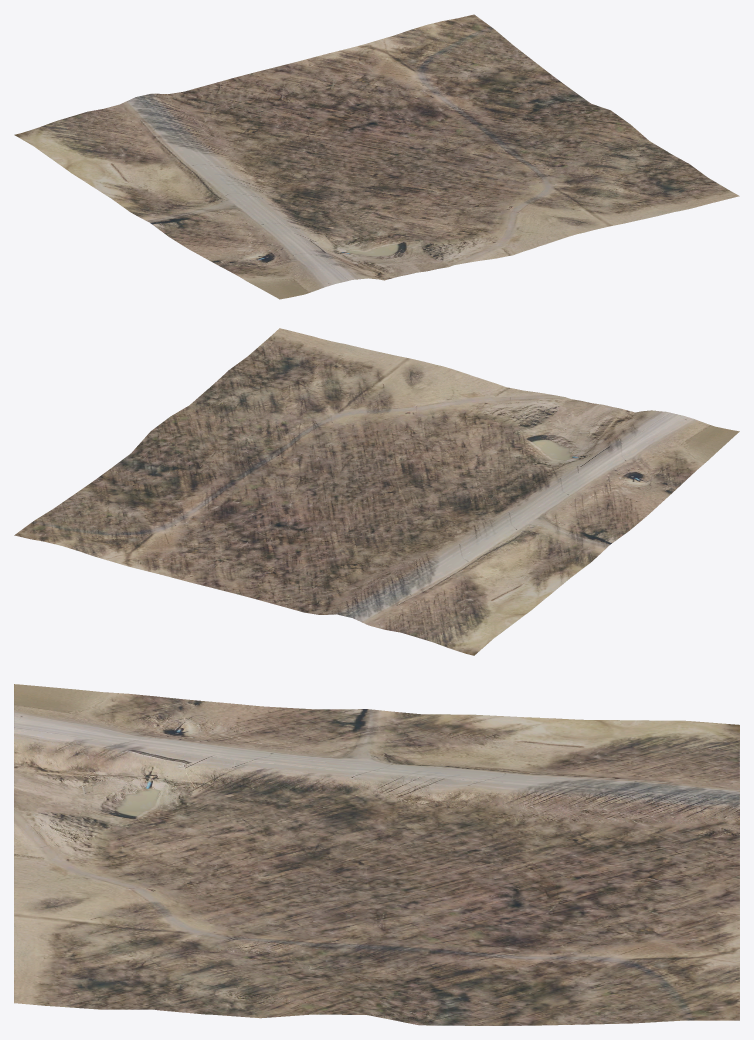
Rendered from CM_Terrain_24491892_6818770.fbx.
The picture shows the model from 3 angles, top to bottom: view 1: azimuth 30°, elevation 25°; view 2: azimuth 150°, elevation 25°; view 3: azimuth 270°, elevation 25°; orthographic projection. The views are drawn at different scales.
Parts seen in each view (by area): view 1: CM_Terrain_24491892_6818770_LOD0; view 2: CM_Terrain_24491892_6818770_LOD0; view 3: CM_Terrain_24491892_6818770_LOD0.
Boxes of the visible parts, left/top/right/bottom form: CM_Terrain_24491892_6818770_LOD0: left=14, top=14, right=739, bottom=299; CM_Terrain_24491892_6818770_LOD0: left=14, top=328, right=739, bottom=655; CM_Terrain_24491892_6818770_LOD0: left=14, top=684, right=739, bottom=1025.
Size of what is drawn, in the model's own units: 205 by 13.52 by 205.
